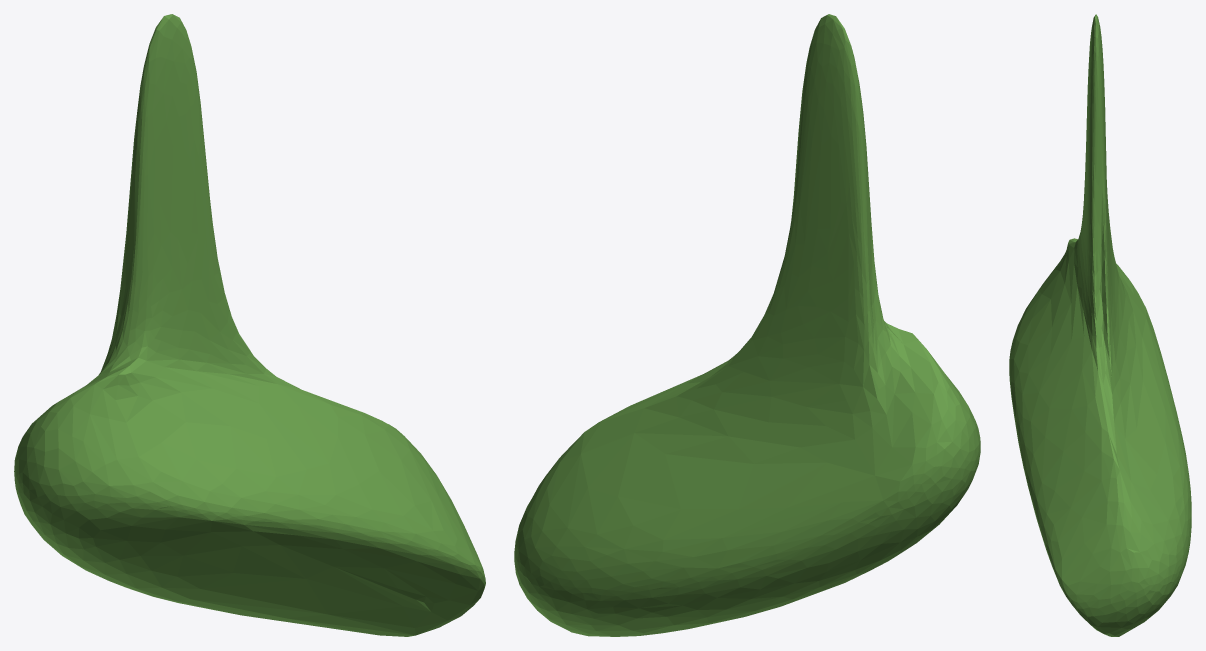
3 views of the same model, side by side, from view 1: azimuth 30°, elevation 25°; view 2: azimuth 150°, elevation 25°; view 3: azimuth 270°, elevation 25° (orthographic). The views are drawn at different scales.
Visible parts, largest first — view 1: 926_Cube.3744; view 2: 926_Cube.3744; view 3: 926_Cube.3744.
Part boxes in pixels (bbox=[...]): 926_Cube.3744: bbox=[14, 14, 485, 636]; 926_Cube.3744: bbox=[514, 14, 980, 636]; 926_Cube.3744: bbox=[1009, 14, 1191, 636].
Bounding box in the file's own units: 10.01 × 14.67 × 4.62.
